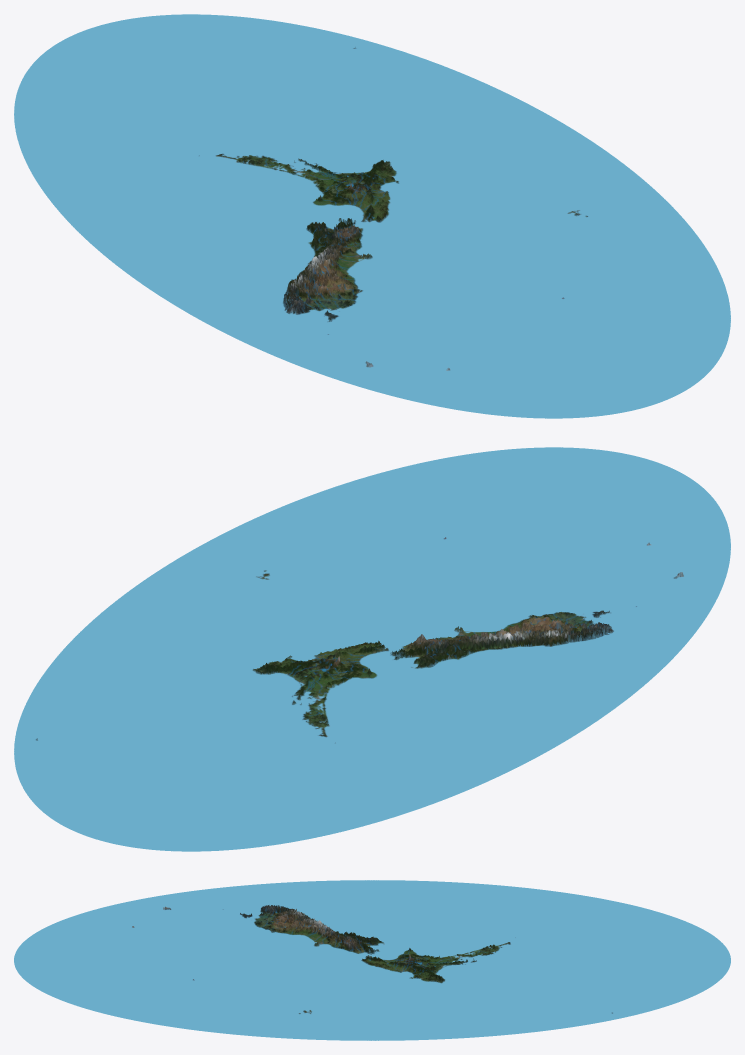
File: NZL-previa-terrain.glb
3 renders of one model, top to bottom at view 1: azimuth 30°, elevation 25°; view 2: azimuth 150°, elevation 25°; view 3: azimuth 270°, elevation 25°, orthographic. The views are drawn at different scales.
Visible parts, largest first — view 1: Nova Zelândia; view 2: Nova Zelândia; view 3: Nova Zelândia.
Boxes of the visible parts, x1,y1,x2,y2 form: Nova Zelândia: (14, 14, 730, 418); Nova Zelândia: (14, 447, 730, 851); Nova Zelândia: (14, 880, 730, 1040).
Bounding box in the file's own units: 1.38 × 0.0336 × 2.6.
Materials: 1 (1 with a texture image).
